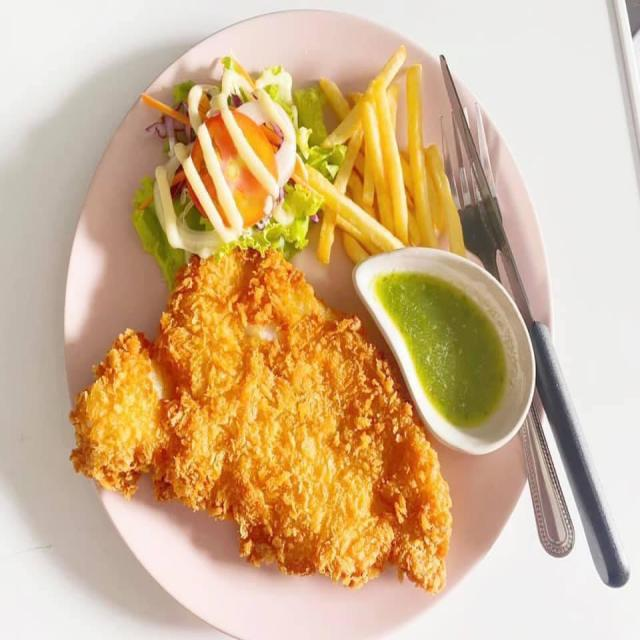Carbohydrate: (317, 32, 473, 263)
Protein: (70, 249, 452, 594)
Steak: (67, 9, 588, 640)
Vegetable: (139, 58, 342, 258)
